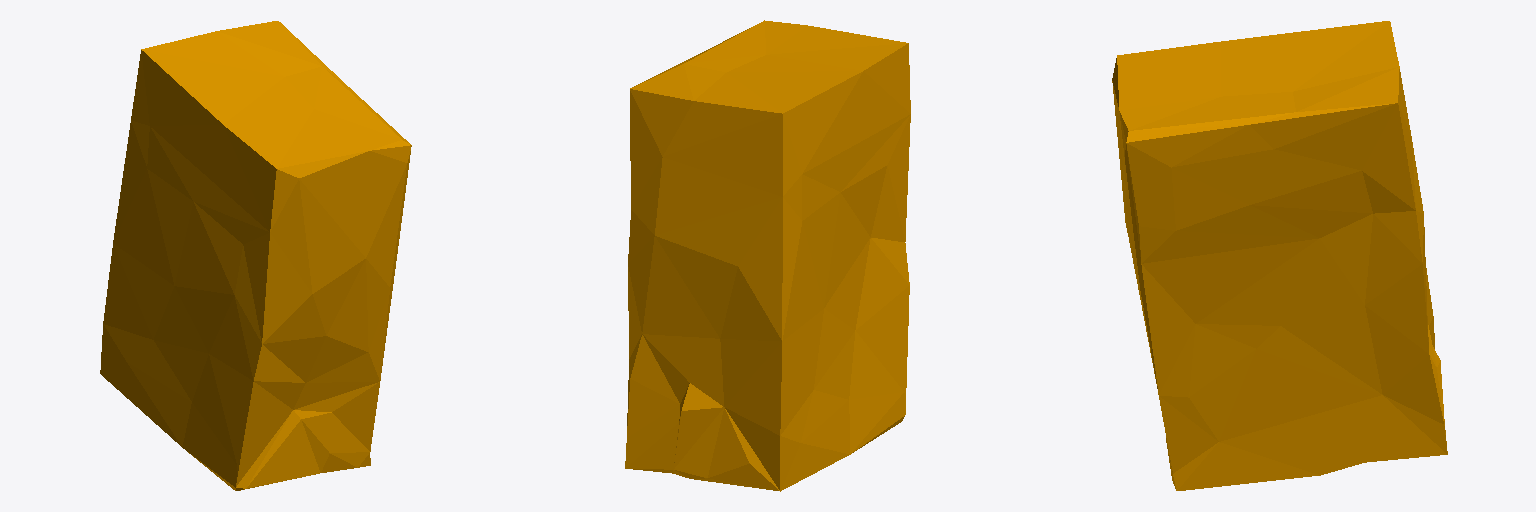
The robot description file, URDF, robot "TomatoHerbSauce_800_tex":
<?xml version="1.0"?>
<robot name="TomatoHerbSauce_800_tex">
  <link name="base_link">
    <contact>
      <lateral_friction value="1.0"/>
      <rolling_friction value="0.0"/>
      <contact_cfm value="0.0"/>
      <contact_erp value="1.0"/>
    </contact>
    <inertial>
      <mass value="0.0323071896178"/>
      <inertia ixx="1" ixy="0" ixz="0" iyy="1" iyz="0" izz="1"/>
    </inertial>
    <visual>
      <geometry>
        <mesh filename="TomatoHerbSauce_800_tex_visual.obj"/>
      </geometry>
    </visual>
    <collision>
      <geometry>
        <mesh filename="TomatoHerbSauce_800_tex_collision.obj"/>
      </geometry>
    </collision>
  </link>
</robot>

--- Facts derived from the render (not from the file) ---
The picture shows the robot from 3 angles, left to right: view 1: azimuth 30°, elevation 25°; view 2: azimuth 150°, elevation 25°; view 3: azimuth 270°, elevation 25°; orthographic projection.
Robot: TomatoHerbSauce_800_tex — 1 links, 0 joints (none); root link base_link; default pose: every joint at zero.
Links seen in each view (by area): view 1: base_link; view 2: base_link; view 3: base_link.
Link boxes in pixels (bbox=[...]): base_link: bbox=[100, 21, 411, 490]; base_link: bbox=[625, 20, 910, 491]; base_link: bbox=[1112, 21, 1447, 490].
Bounding box of the posed robot: 0.0417 × 0.0676 × 0.0895 m (x, y, z).
1 mesh visuals loaded from 1 distinct referenced files (1 OBJ).